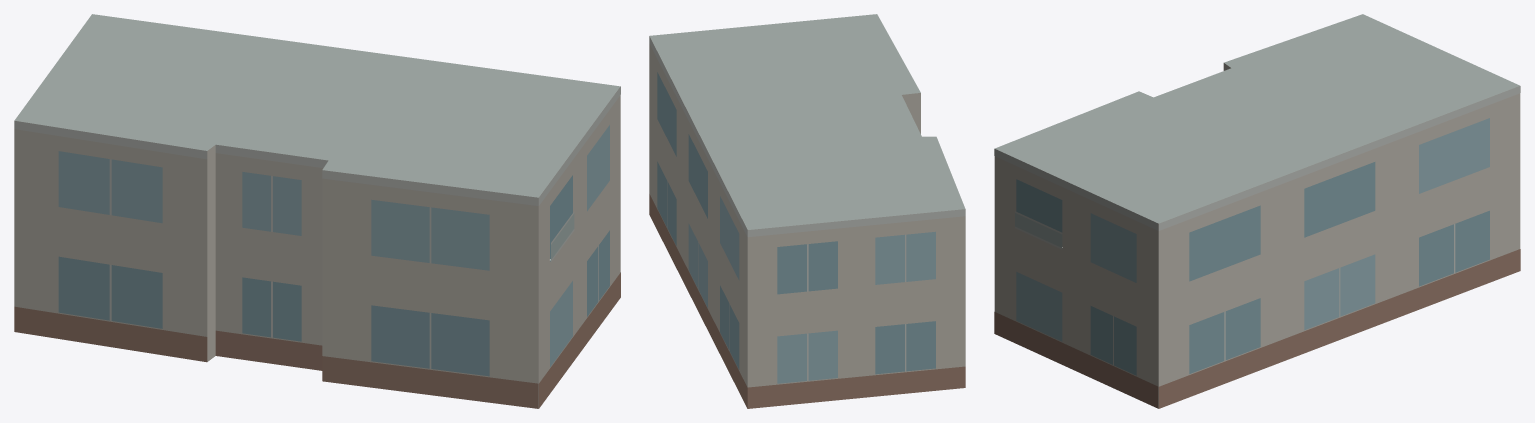
The model's file is survey-upis-32625317.glb.
3 renders of one model, left to right at view 1: azimuth 30°, elevation 25°; view 2: azimuth 150°, elevation 25°; view 3: azimuth 270°, elevation 25°, orthographic. The views are drawn at different scales.
Parts seen in each view (by area): view 1: survey-upis-32625317.tmp; view 2: survey-upis-32625317.tmp; view 3: survey-upis-32625317.tmp.
Boxes of the visible parts, x1,y1,x2,y2 form: survey-upis-32625317.tmp: (14,14,620,408); survey-upis-32625317.tmp: (649,14,965,408); survey-upis-32625317.tmp: (994,14,1520,408).
Bounding box in the file's own units: 14.82 × 6.1 × 15.71.
